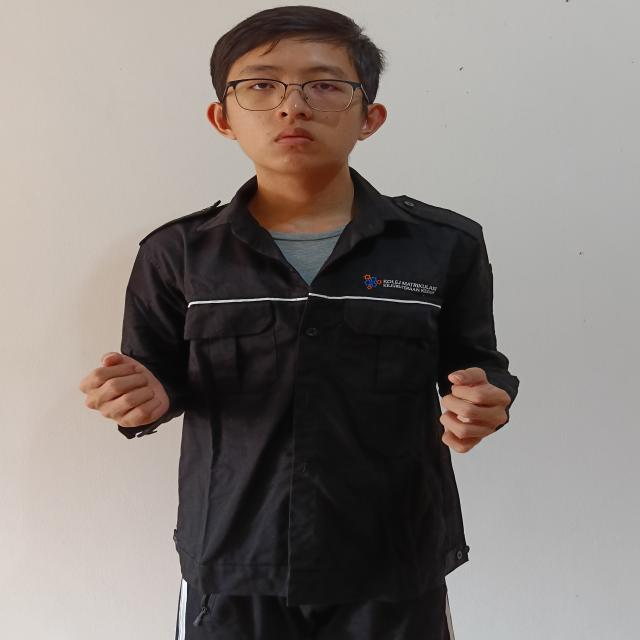person_with_labcoat: (81, 7, 518, 640)
